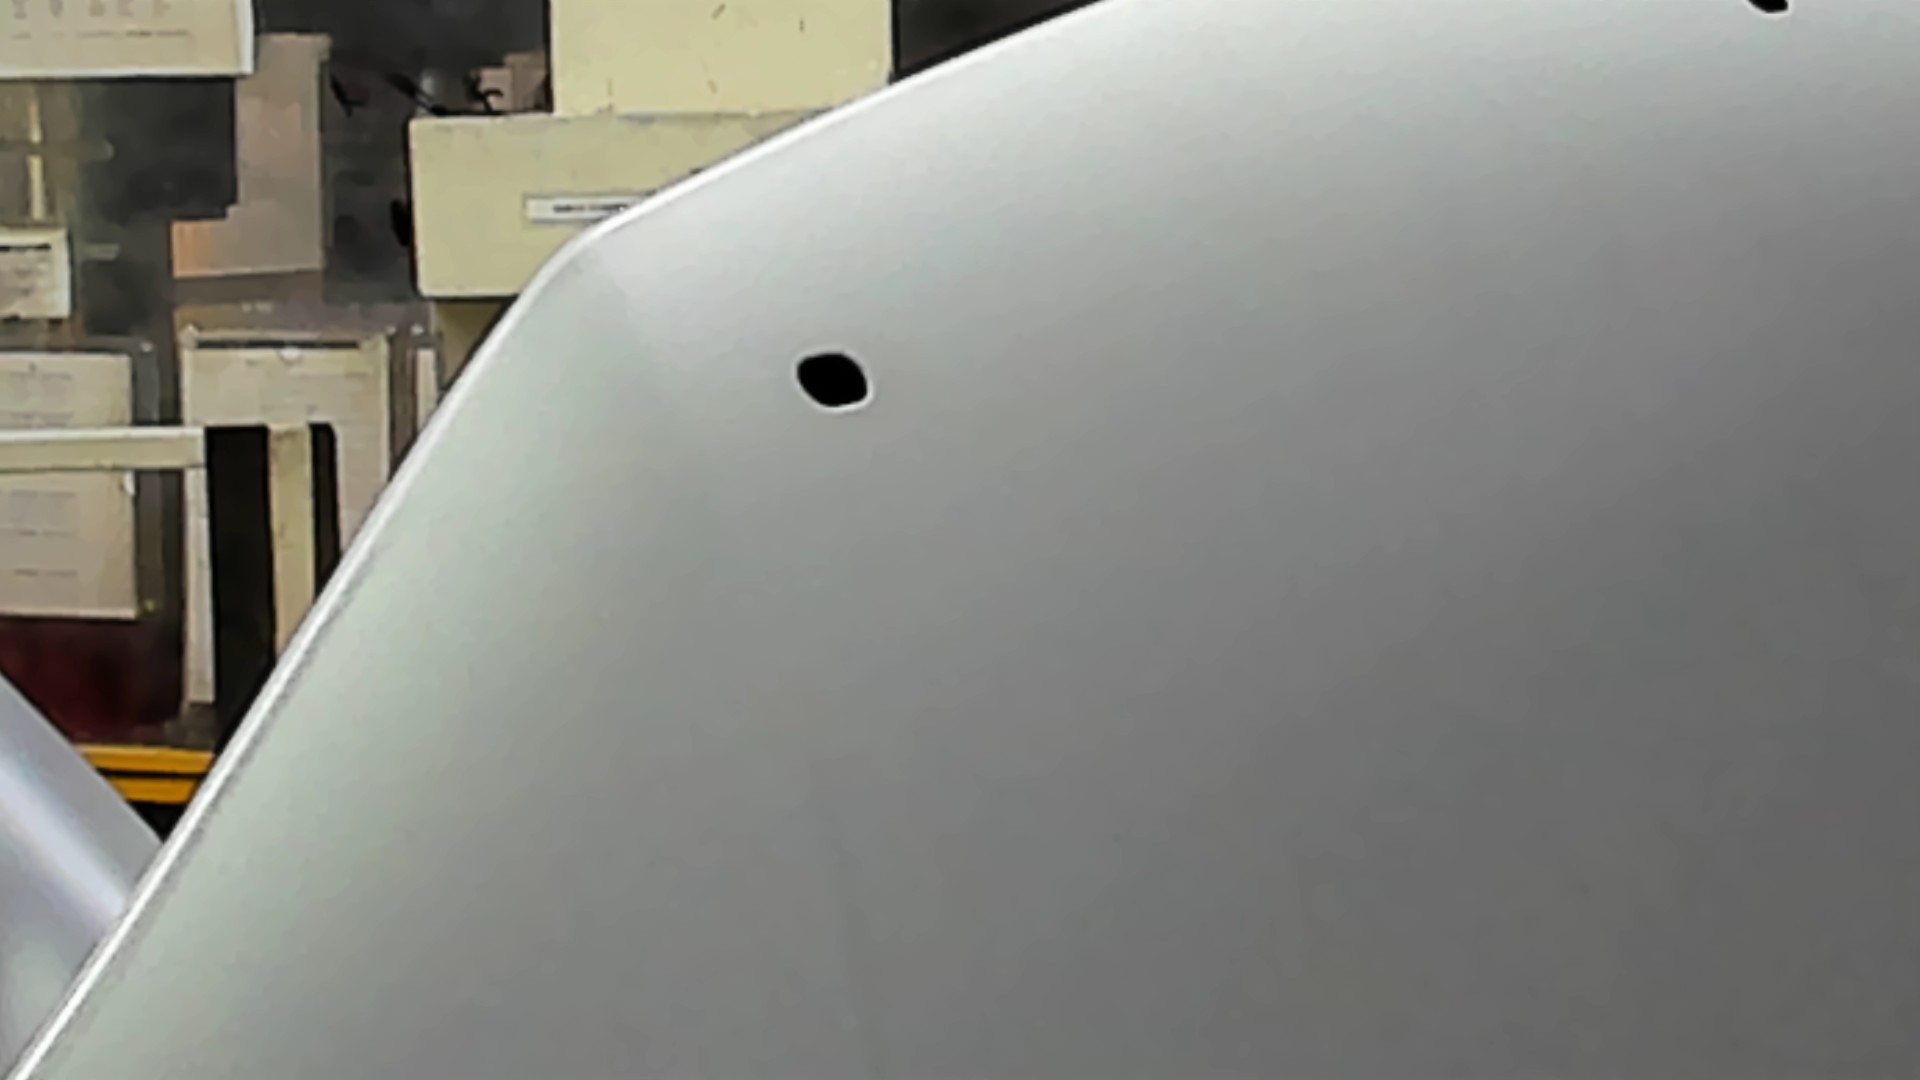amorfo: (789, 345, 880, 415), (1738, 1, 1797, 22)
